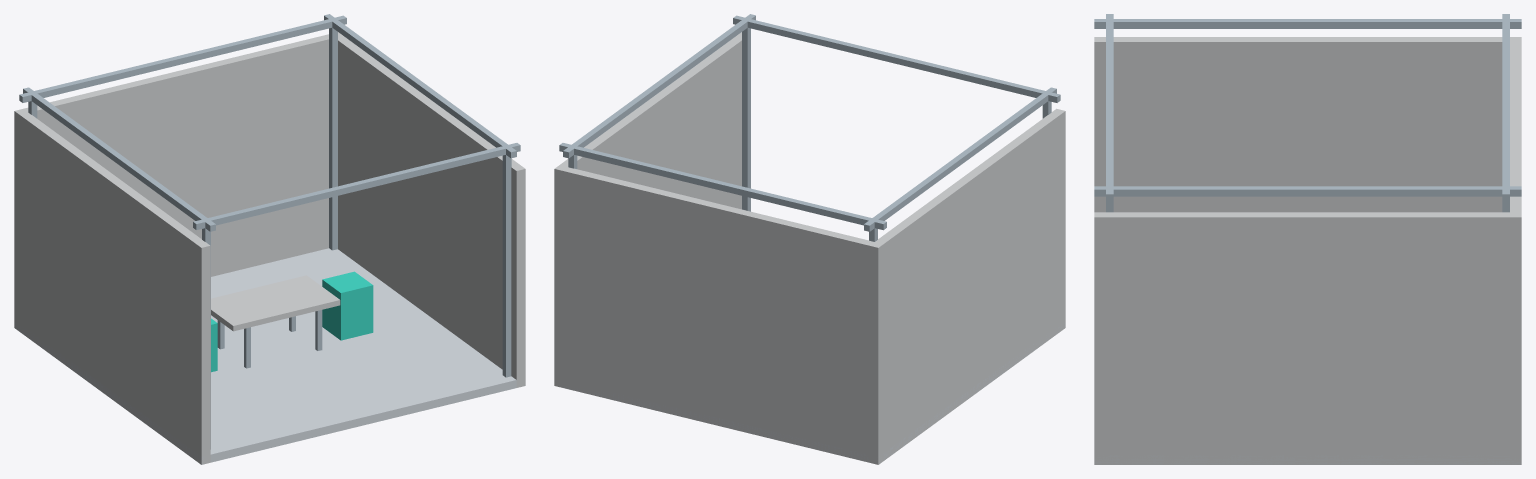
3 views of the same model, side by side, from view 1: azimuth 30°, elevation 25°; view 2: azimuth 150°, elevation 25°; view 3: azimuth 270°, elevation 25° (orthographic). The views are drawn at different scales.
Parts seen in each view (by area): view 1: Exhibition Booth Concept; view 2: Exhibition Booth Concept; view 3: Exhibition Booth Concept.
Boxes of the visible parts, x1,y1,x2,y2 form: Exhibition Booth Concept: (14,14,525,464); Exhibition Booth Concept: (554,14,1065,464); Exhibition Booth Concept: (1094,14,1521,464).
Size of the model in its own units: 5 by 3.49 by 5.
